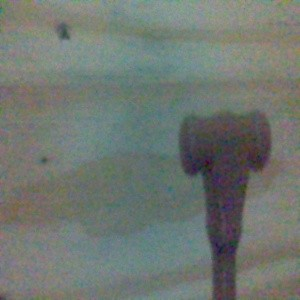palu: (178, 108, 273, 300)
